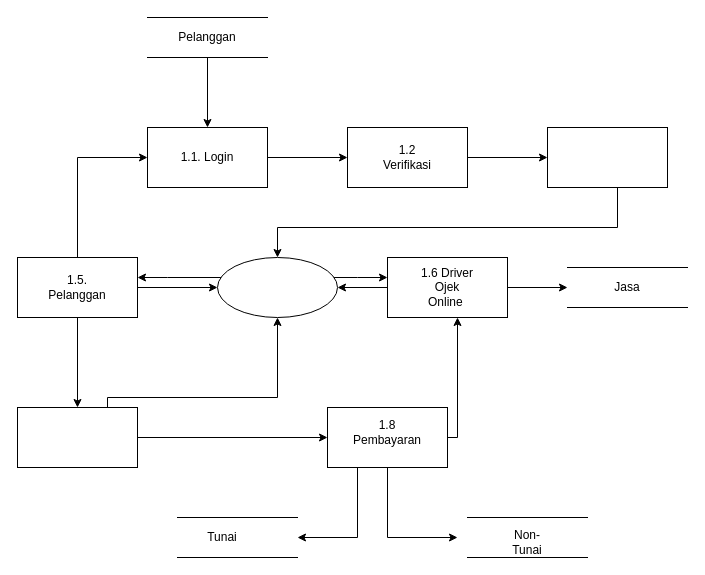
Some shapes in this 705 by 575 pixel diagram are drawn without their labels. Each missing label, with the centre of its shape:
1.3. Login Ulang: the point at 607,157
1.4. Aplikasi Gojek: the point at 277,287
1.7 Memesan: the point at 77,437
